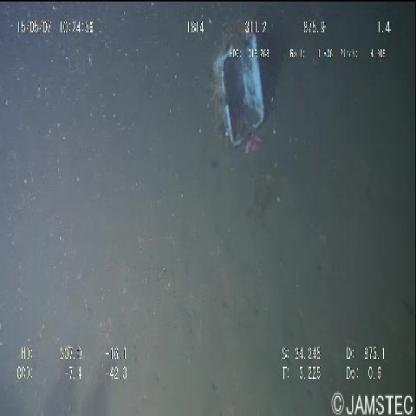Rác: (210, 23, 268, 156)
